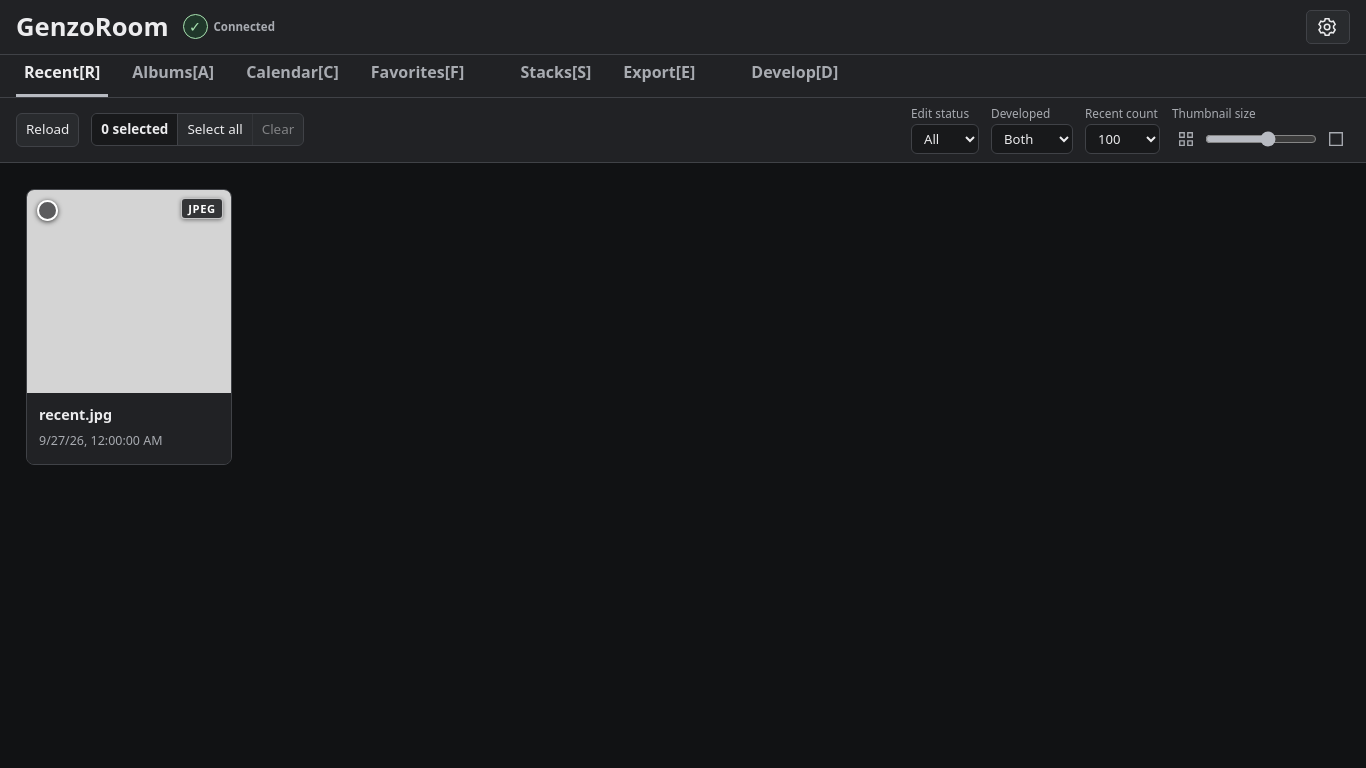
Test: album photo view › keeps Album B after a stale Album A request resolves
Step 1. Click the tab with id "home-albums-tab" → (173, 76), box [124,55,222,97]
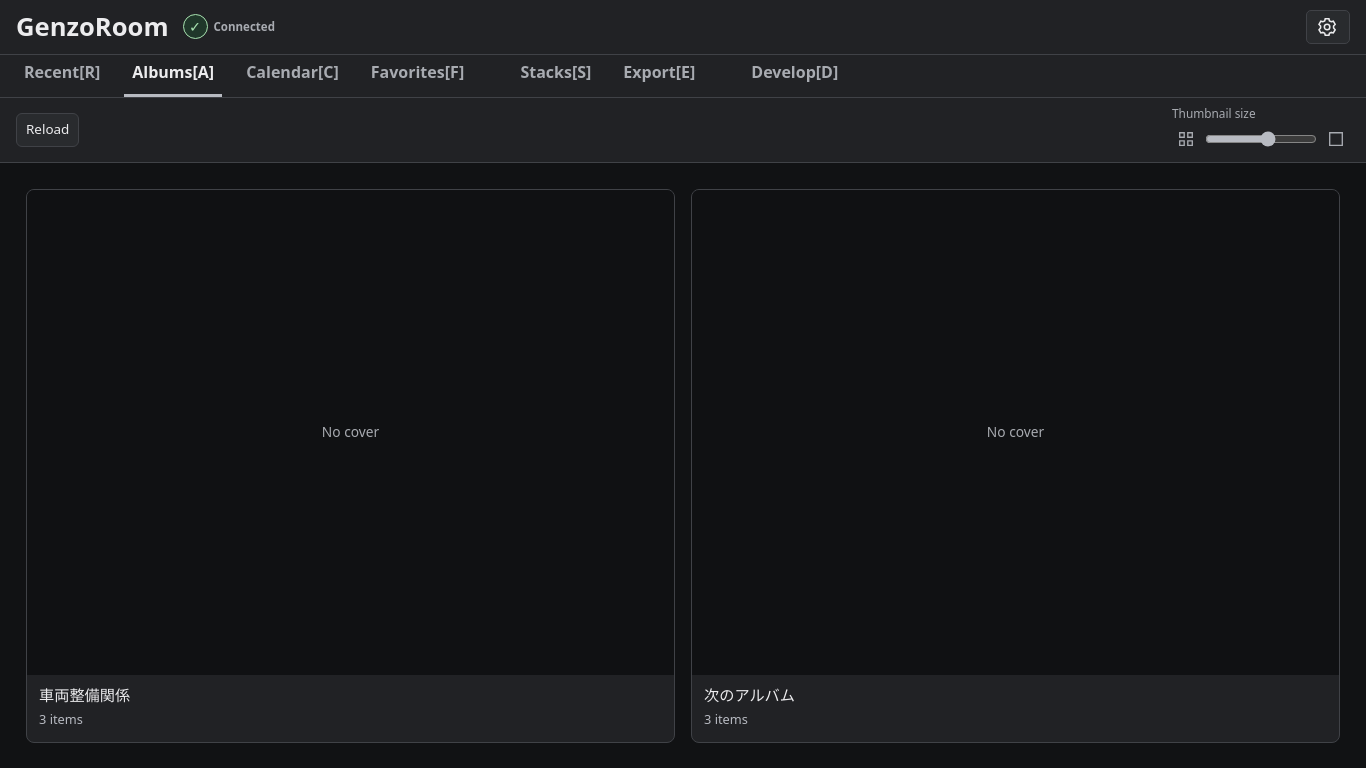
Step 2. Click the button with class "album-card" showing "No cover 車両整備関係 3 items" → (350, 466), box [26,189,675,743]
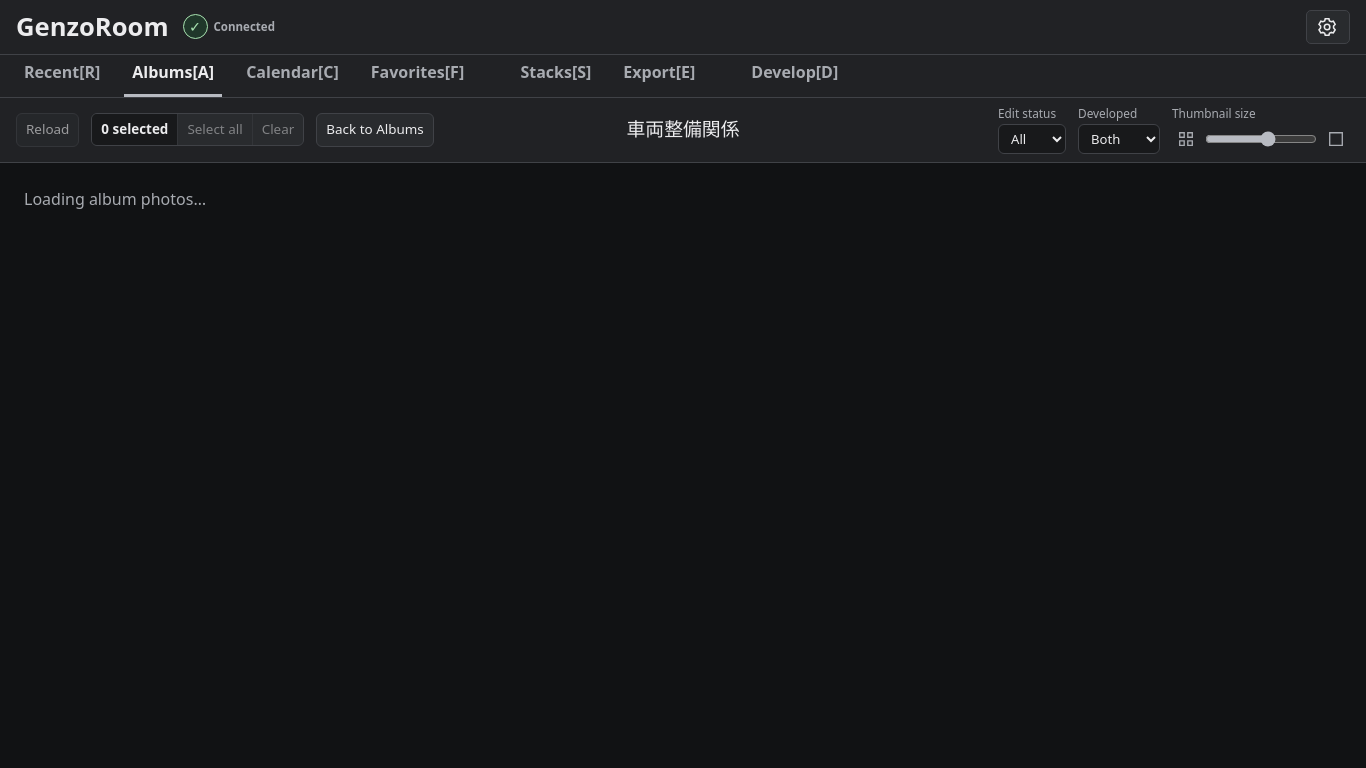
Step 3. Click the button with class "album-back" → (375, 130), box [316,113,434,147]
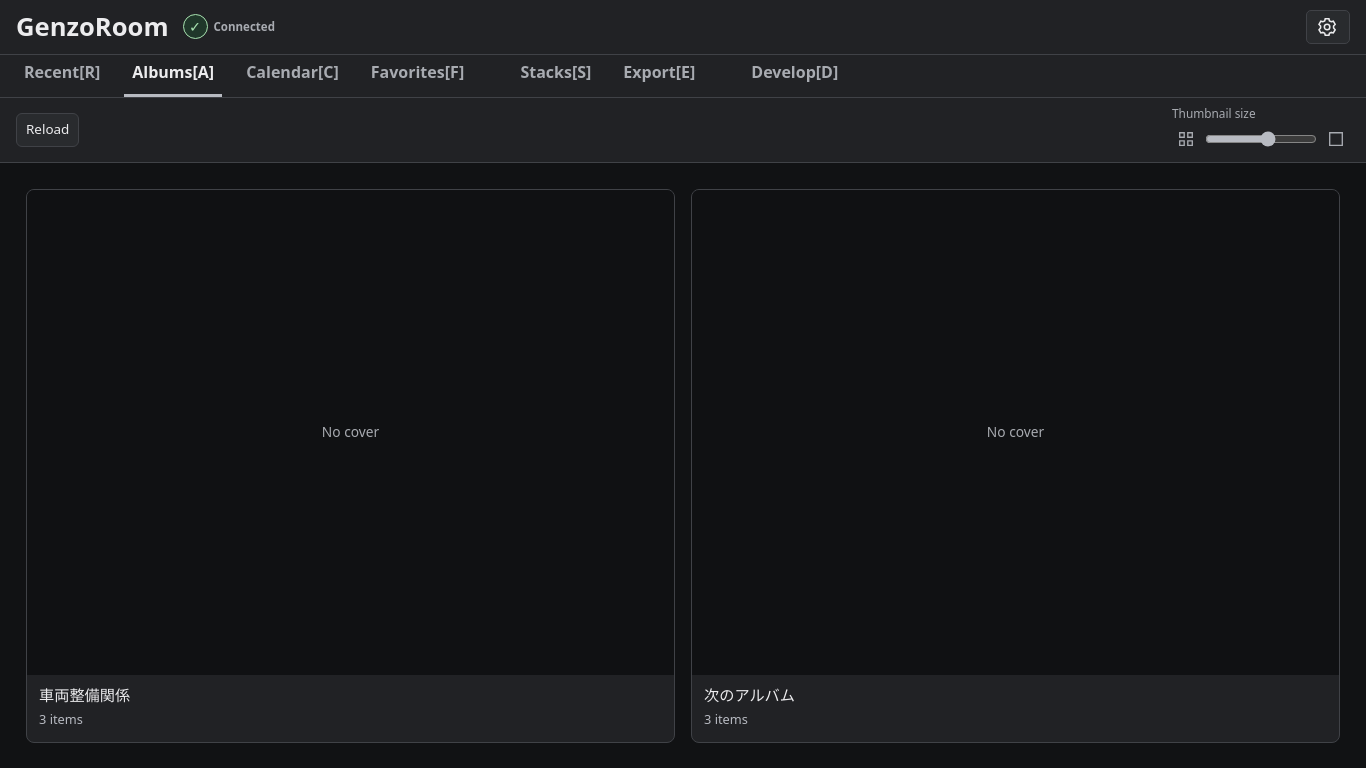
Step 4. Click the button with class "album-card" showing "No cover 次のアルバム 3 items" → (1016, 466), box [691,189,1340,743]
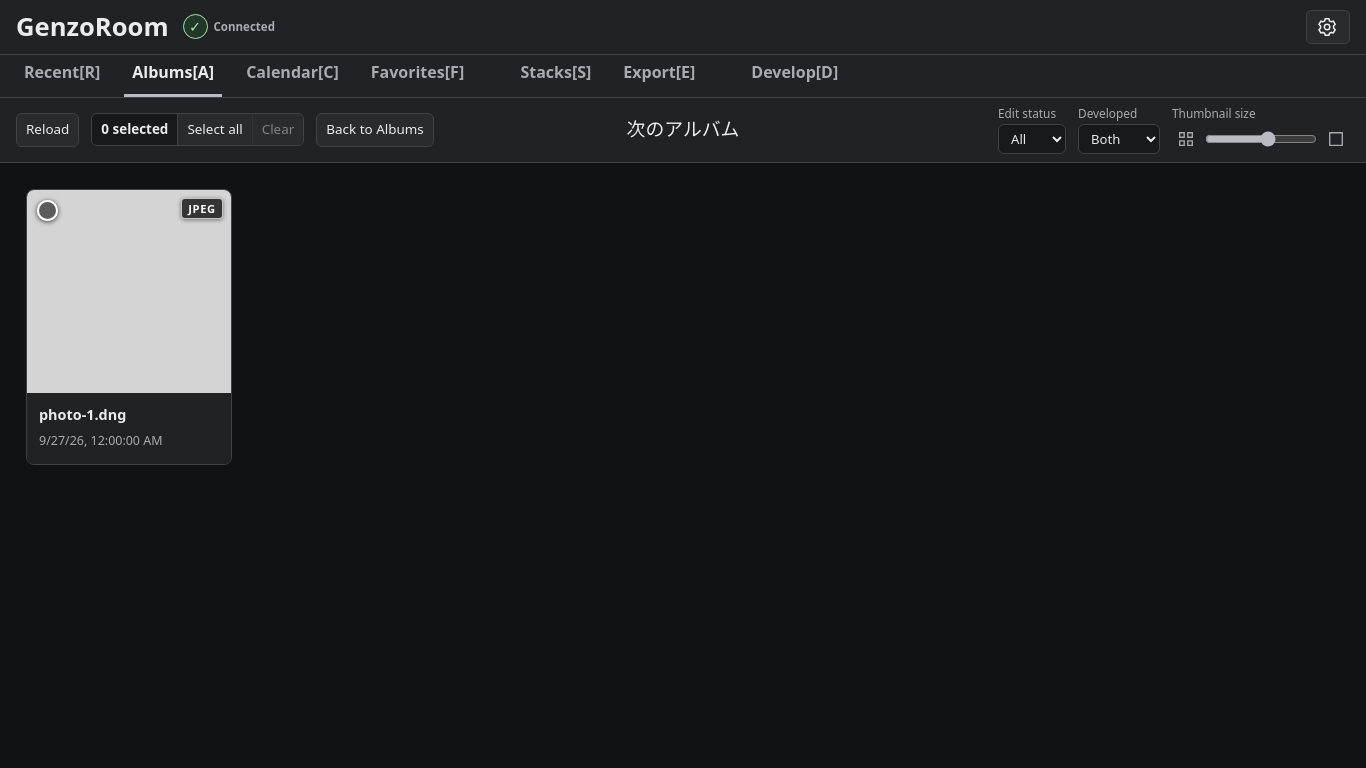
Now the heading with class "home-toolbar-title" reads "次のアルバム", box [626,116,740,142]
Now the element showing "photo-1.dng" is shown, box [39,406,126,424]
